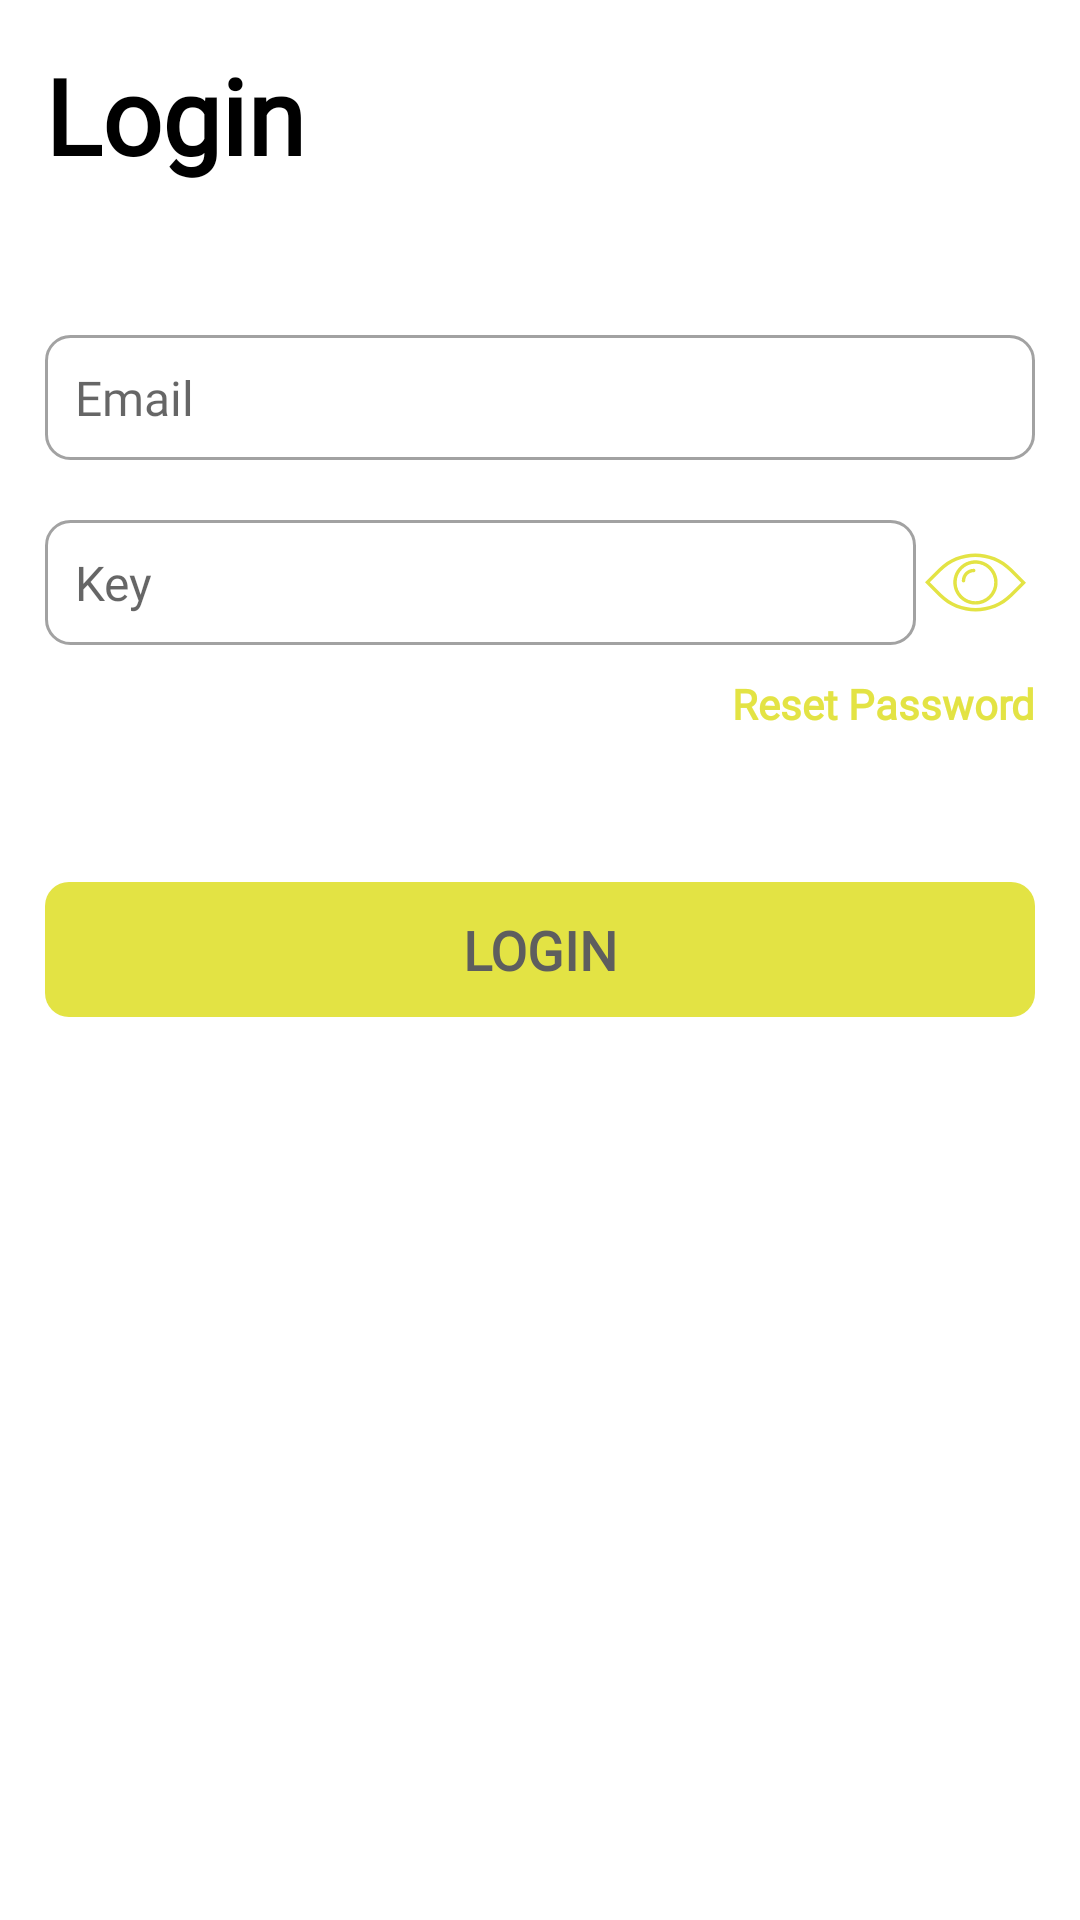

Icons on this 1080x1920 Android screen, each with its box as (x1=x1, y1=y1, x2=x2, y2=y2):
show password: (x1=925, y1=553, x2=1026, y2=612)
